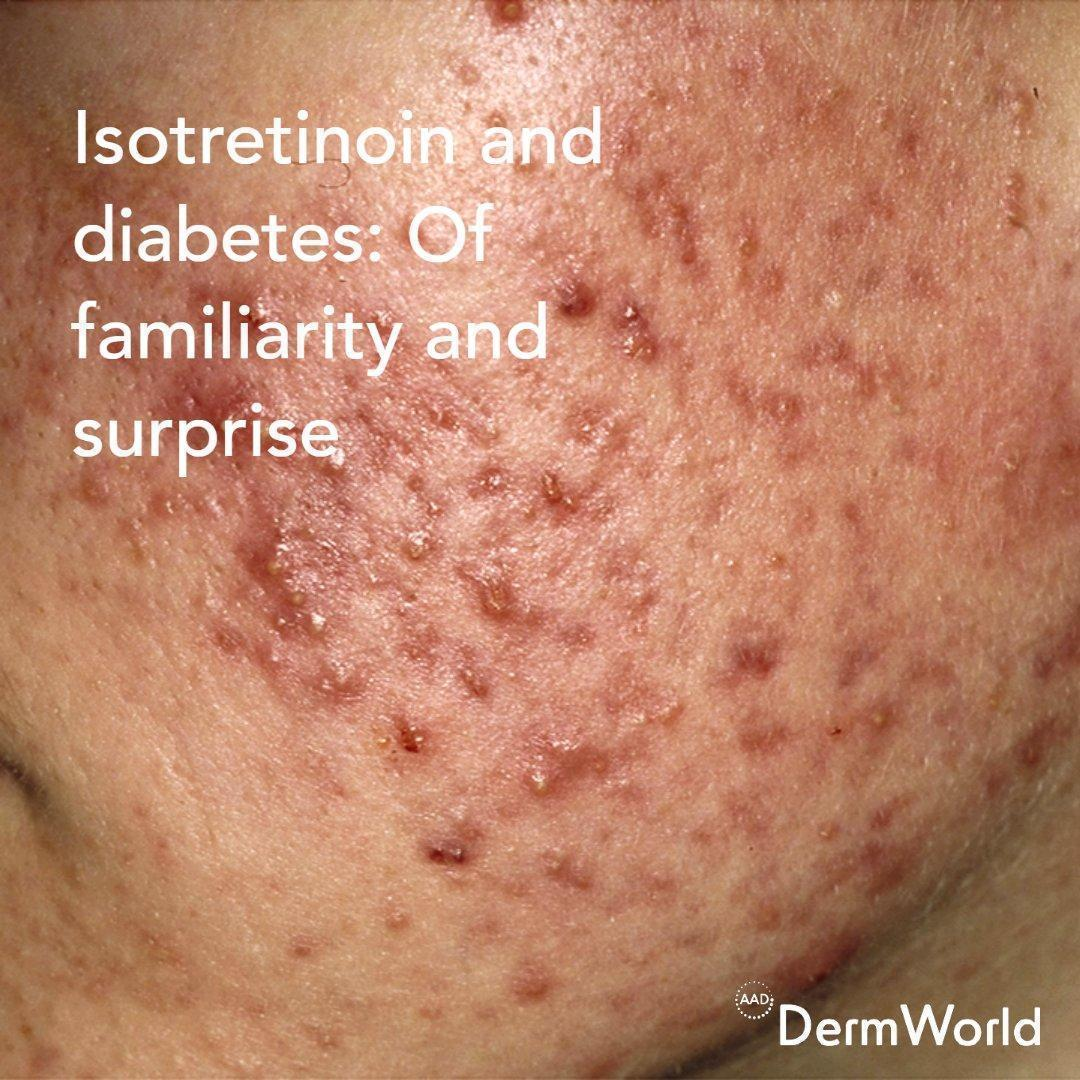acne_scars: (627, 163, 752, 259)
keloid: (459, 561, 504, 630), (536, 453, 572, 537)
purulent: (506, 756, 568, 815), (853, 694, 912, 753)
sebo-crystan-conglo: (223, 520, 373, 668), (602, 288, 668, 384), (730, 628, 796, 687)
